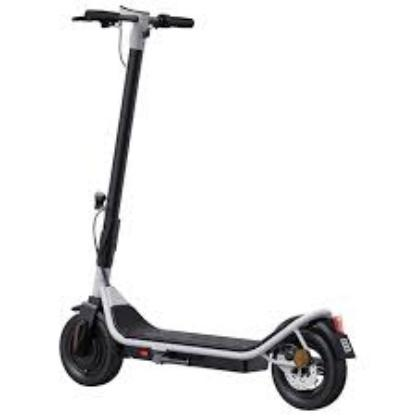bike: (57, 4, 410, 411)
